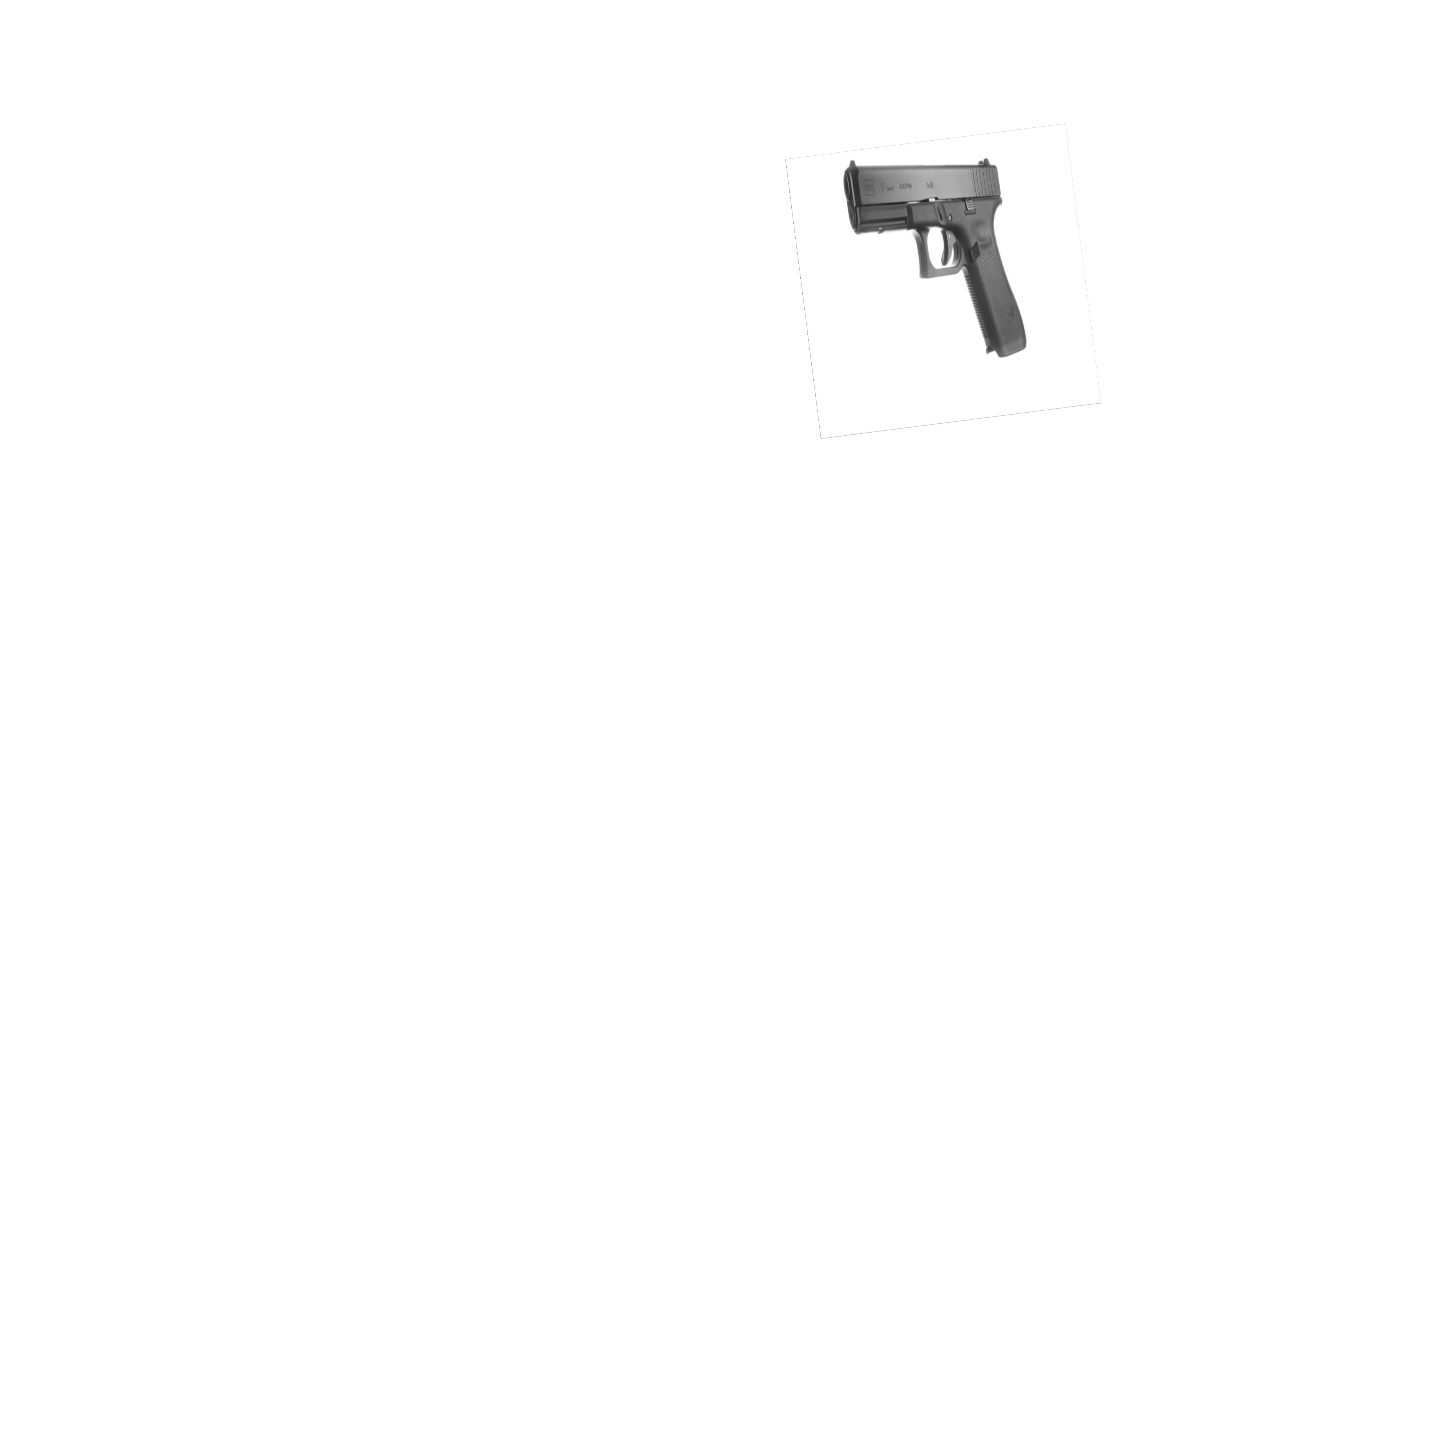gun: (830, 153, 1034, 366)
